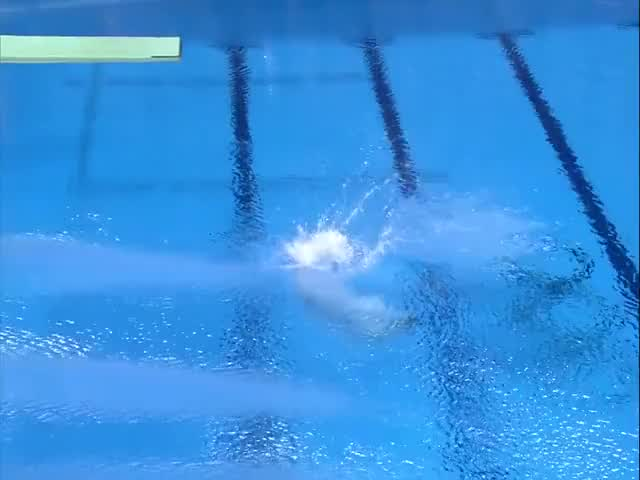splash: (282, 181, 396, 269)
